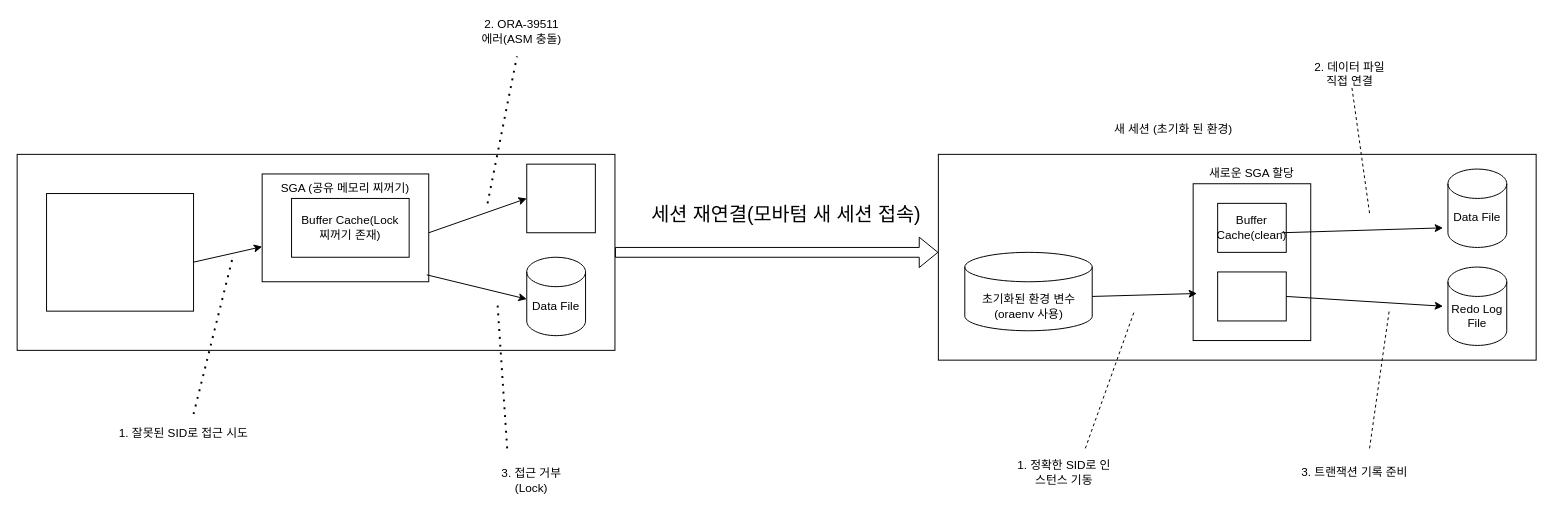
Image size: 1553x514. Some labels were removed from this diagram. The centre of each missing label's shape, as x and y in pixels:
ASM instance: the point at 560,198
Redo Log Buffer(Ready): the point at 1251,296
잘못된 환경 변수 (ORACLE_SID/HOME 충돌: the point at 120,252
